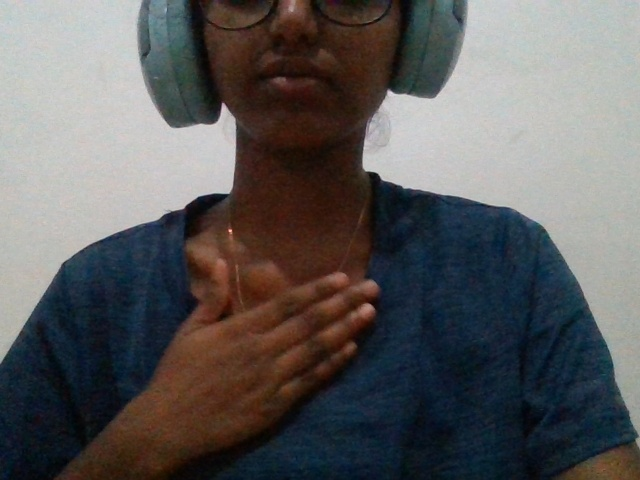Please: (95, 243, 432, 463)
